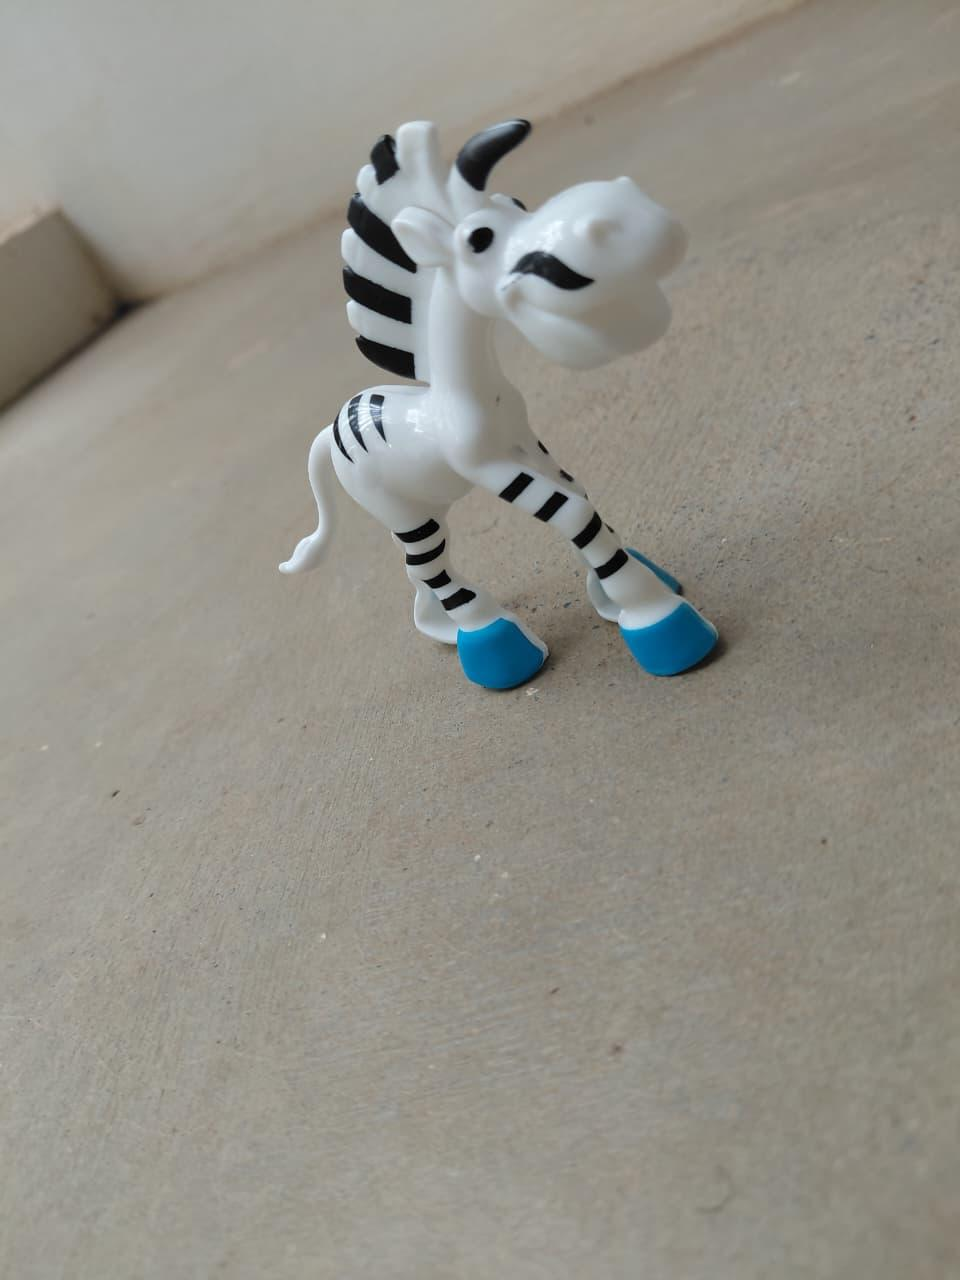zebra: (270, 116, 738, 700)
